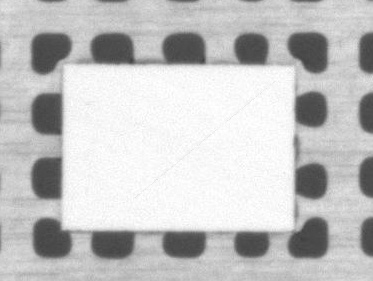DIE_CRACK: (179, 61, 364, 148)
